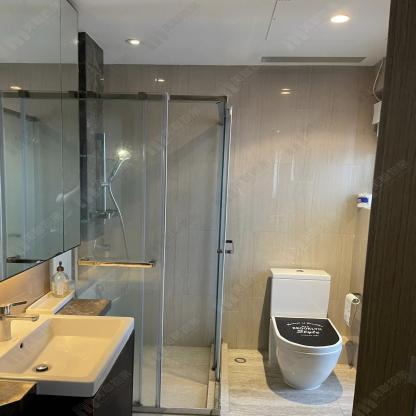Faucet: (1, 299, 36, 341)
Toilet: (260, 259, 348, 393)
Toilet Sink: (0, 312, 135, 395)
Water Cubicle: (78, 91, 235, 411)
